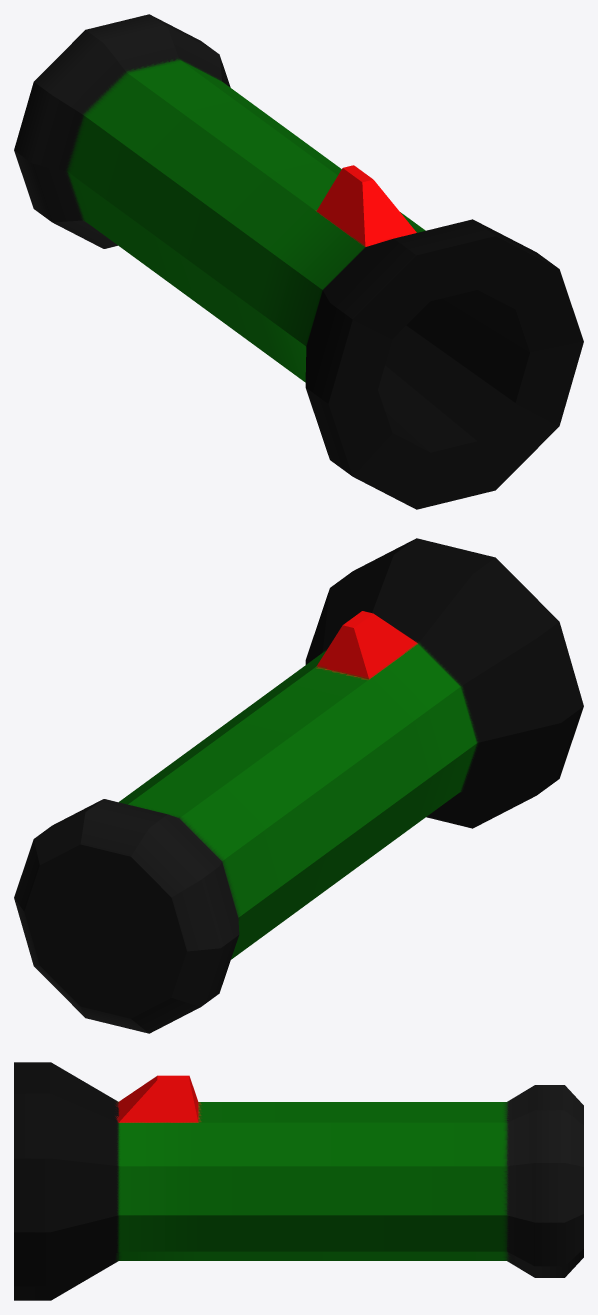
Rendered from RocketLauncherFBX.fbx.
The picture shows the model from 3 angles, top to bottom: view 1: azimuth 30°, elevation 25°; view 2: azimuth 150°, elevation 25°; view 3: azimuth 270°, elevation 25°; orthographic projection. The views are drawn at different scales.
Parts seen in each view (by area): view 1: pCylinder2; view 2: pCylinder2; view 3: pCylinder2.
Boxes of the visible parts, box(x1,y1,x2,y2) form: pCylinder2: box(14, 14, 583, 509); pCylinder2: box(14, 538, 583, 1033); pCylinder2: box(14, 1062, 583, 1300).
Size of the model in its own units: 2.99 by 2.85 by 7.1.
Materials: 1 (1 with a texture image).
